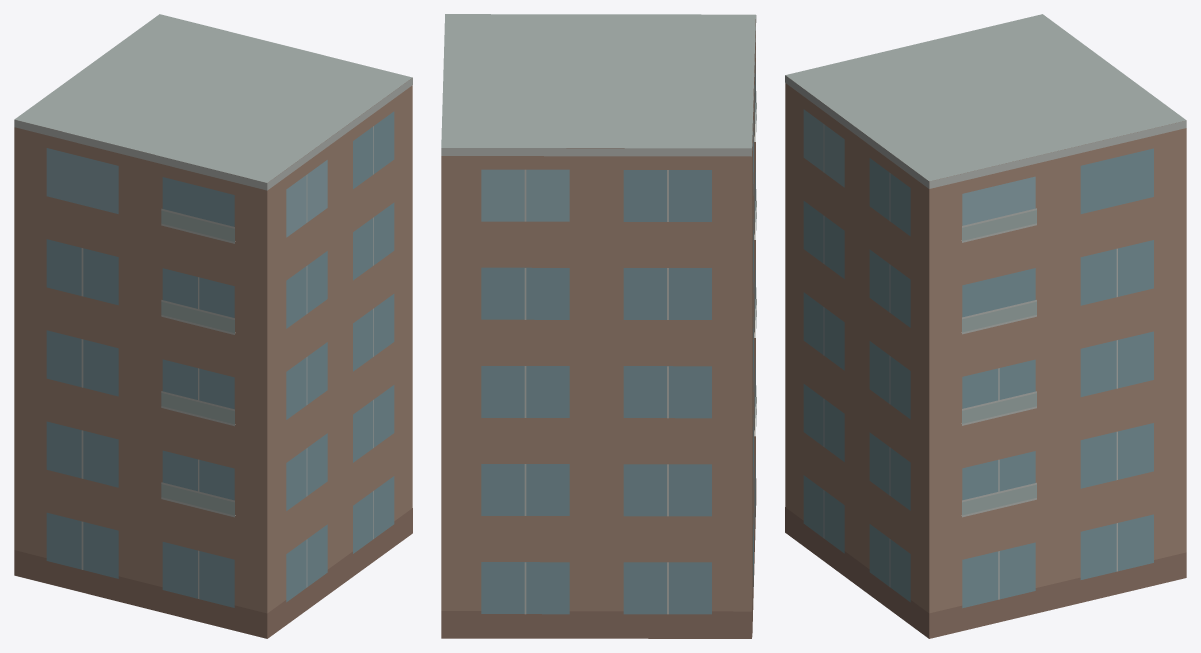
File: survey-upis-32695321.glb
The picture shows the model from 3 angles, left to right: view 1: azimuth 30°, elevation 25°; view 2: azimuth 150°, elevation 25°; view 3: azimuth 270°, elevation 25°; orthographic projection. The views are drawn at different scales.
Parts seen in each view (by area): view 1: survey-upis-32695321.tmp; view 2: survey-upis-32695321.tmp; view 3: survey-upis-32695321.tmp.
Boxes of the visible parts, x1=… form: survey-upis-32695321.tmp: x1=14, y1=14, x2=412, y2=638; survey-upis-32695321.tmp: x1=441, y1=14, x2=756, y2=638; survey-upis-32695321.tmp: x1=785, y1=14, x2=1186, y2=638.
Bounding box in the file's own units: 11.51 × 14.65 × 11.66.
